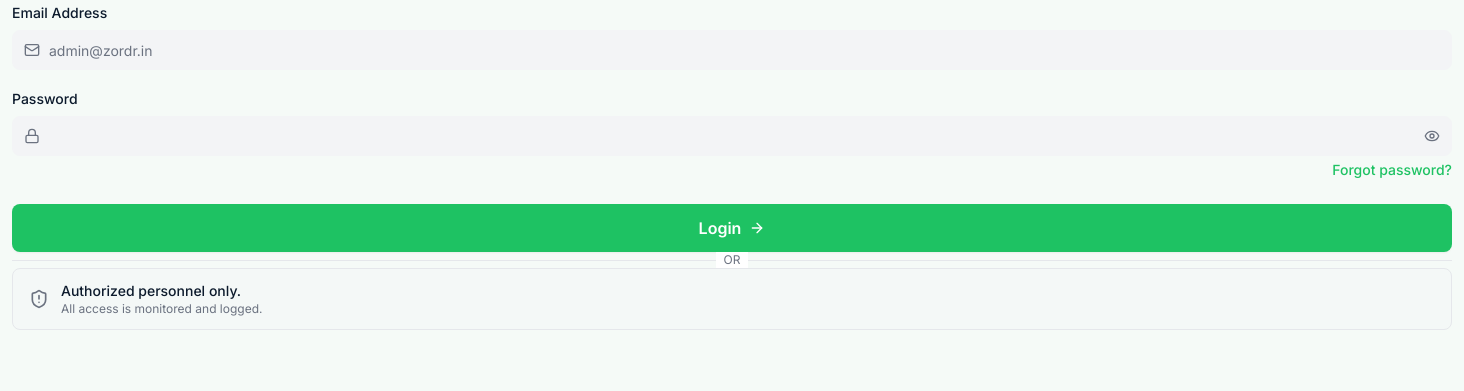
Test: LoginForm › Validation errors › shows email required error when email is empty on submit
This screenshot has width=1464, height=391.
Click the button "Login" at (732,228), box [12, 204, 1452, 252]
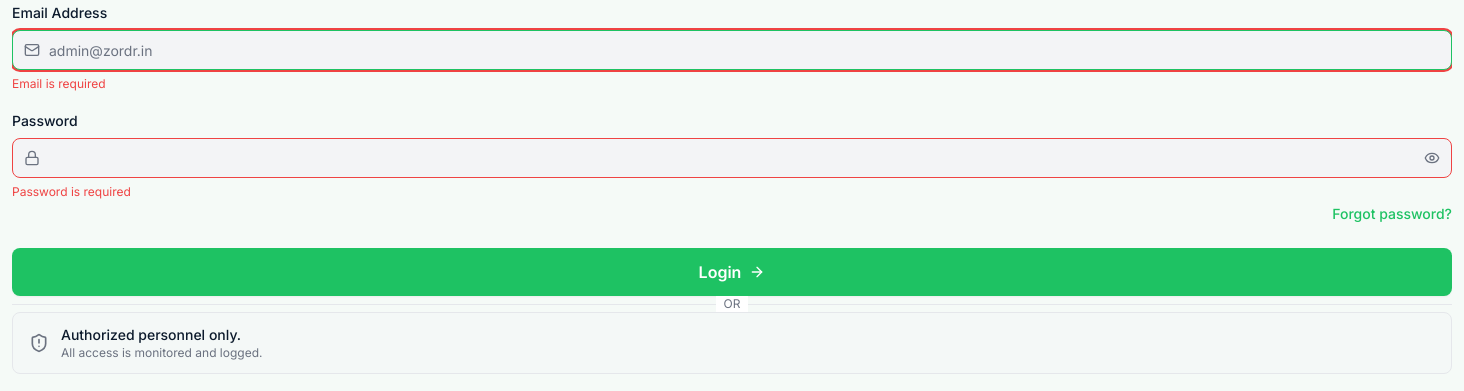
Now the text "Email is required" is shown, box [12, 76, 106, 91]
